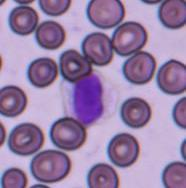L: (63, 69, 119, 128)
